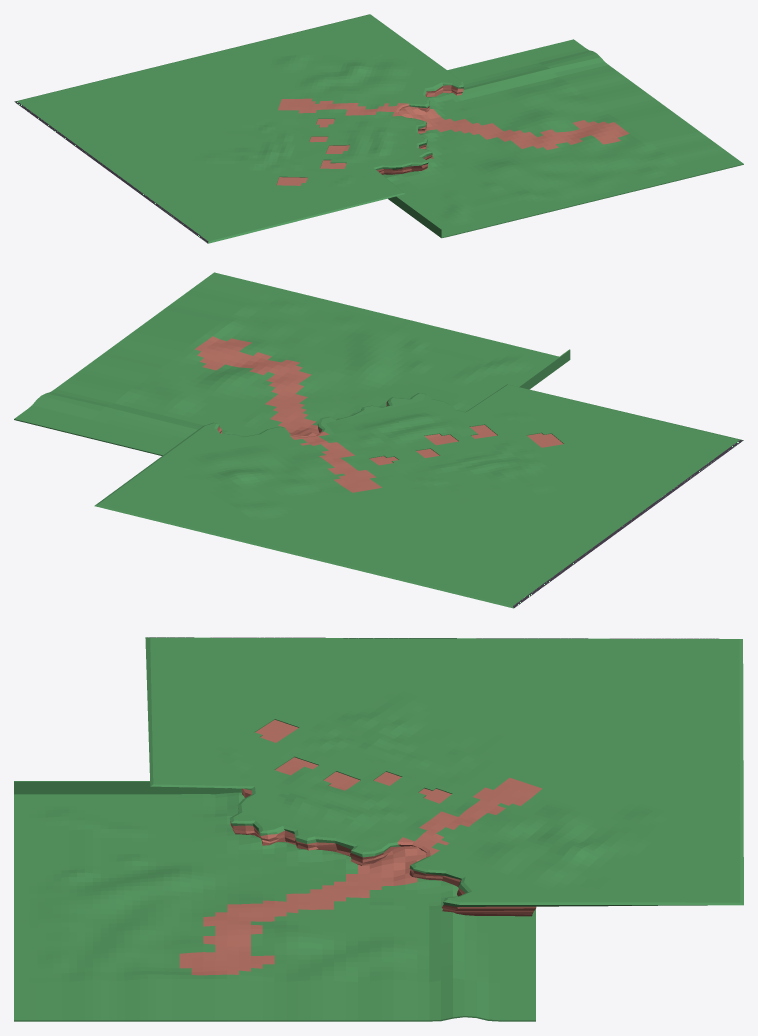
The model's file is spawnT.fbx.
3 renders of one model, top to bottom at view 1: azimuth 30°, elevation 25°; view 2: azimuth 150°, elevation 25°; view 3: azimuth 270°, elevation 25°, orthographic. The views are drawn at different scales.
Visible parts, largest first — view 1: Plane.001; view 2: Plane.001; view 3: Plane.001.
Boxes of the visible parts, x1,y1,x2,y2 form: Plane.001: (14, 14, 743, 243); Plane.001: (14, 272, 743, 608); Plane.001: (14, 637, 743, 1021).
Bounding box in the file's own units: 3731 × 100 × 3119.
